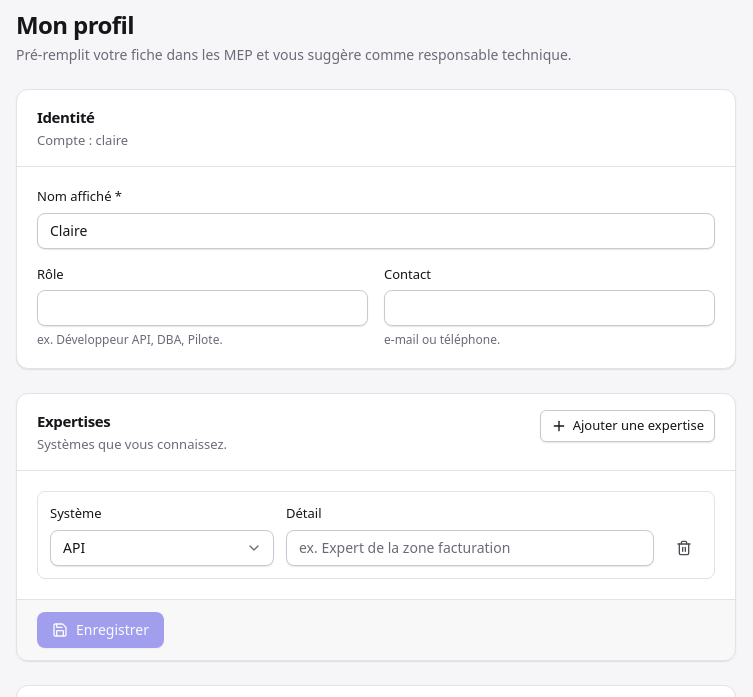
Scenario: Page Mon profil › ne propose pas deux fois le même système
The image size is (753, 697).
Click the button "Ajouter une expertise" at (627,426), box [540,410,715,442]
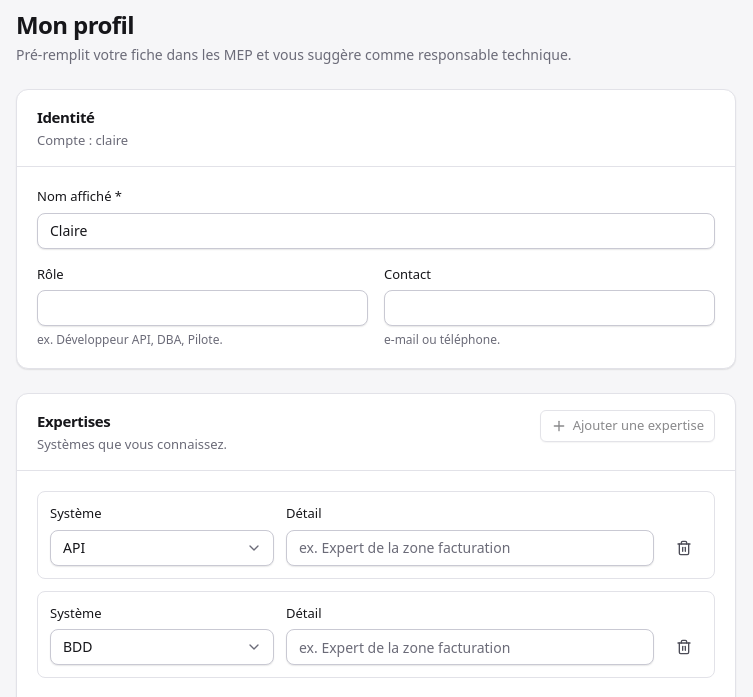
Check: the button "Ajouter une expertise" is disabled, box [540,410,715,442]
